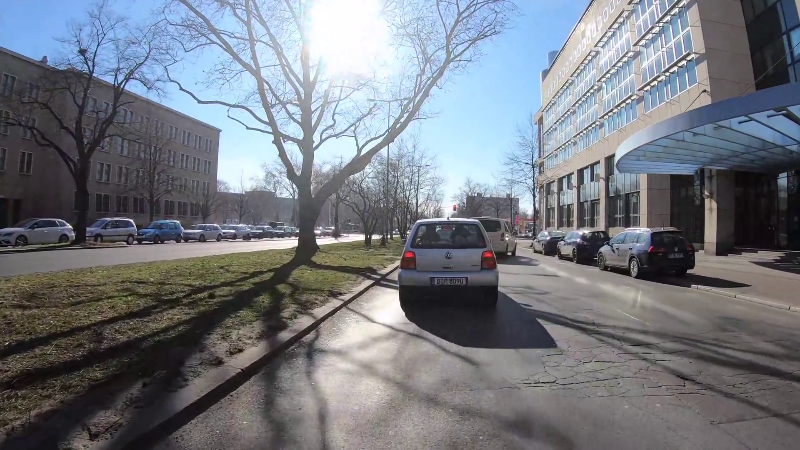Plate: (428, 275, 468, 286), (666, 253, 685, 259)
